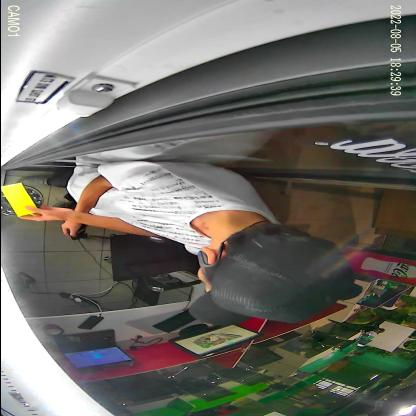yellow: (0, 182, 43, 218)
